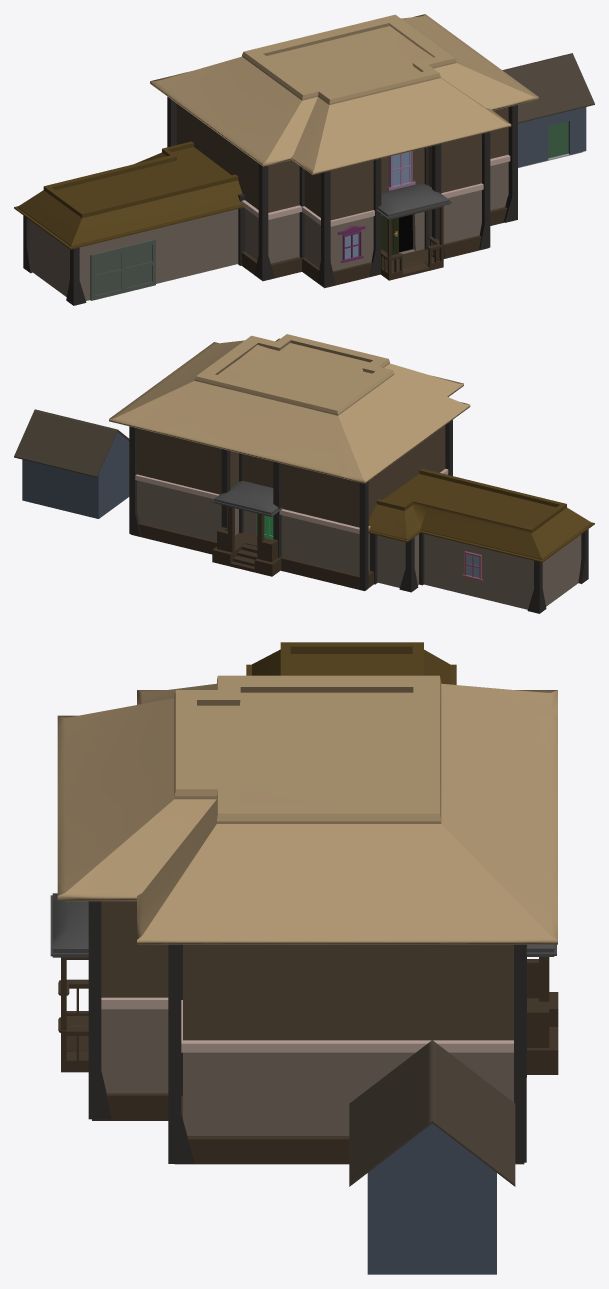
Rendered from MansionShell_Done 1.fbx.
The picture shows the model from 3 angles, top to bottom: view 1: azimuth 30°, elevation 25°; view 2: azimuth 150°, elevation 25°; view 3: azimuth 270°, elevation 25°; orthographic projection. The views are drawn at different scales.
Parts seen in each view (by area): view 1: MansionRoof, Floor_1, GarageRoof, Floor_2, CornerFrame2, Shell_Base, Shed_Roof, Mansion_Door1, Shed, FrontDoor_Roof, Floor_Separator, Shed_Door (+5 smaller); view 2: MansionRoof, Floor_1, GarageRoof, Floor_2, CornerFrame2, Shed, Shed_Roof, BackDoor_Porch, Shell_Base, BackDoor_Roof, Floor_Separator; view 3: MansionRoof, Floor_2, Floor_1, Shed, Shed_Roof, CornerFrame2, Shell_Base, GarageRoof, Floor_Separator, BackDoor_Porch, FrontDoor_Roof.
Boxes of the visible parts, x1=… form: MansionRoof: x1=150, y1=14, x2=538, y2=174; Floor_1: x1=29, y1=162, x2=508, y2=300; GarageRoof: x1=14, y1=141, x2=243, y2=249; Floor_2: x1=176, y1=103, x2=508, y2=220; CornerFrame2: x1=23, y1=97, x2=517, y2=305; Shell_Base: x1=241, y1=206, x2=507, y2=288; Shed_Roof: x1=502, y1=53, x2=594, y2=123; Mansion_Door1: x1=90, y1=239, x2=155, y2=300; Shed: x1=518, y1=107, x2=586, y2=167; FrontDoor_Roof: x1=376, y1=184, x2=451, y2=219; Floor_Separator: x1=241, y1=154, x2=510, y2=226; Shed_Door: x1=548, y1=121, x2=568, y2=158; MansionRoof: x1=109, y1=334, x2=470, y2=483; Floor_1: x1=137, y1=480, x2=581, y2=609; GarageRoof: x1=368, y1=468, x2=594, y2=562; Floor_2: x1=137, y1=425, x2=445, y2=527; CornerFrame2: x1=129, y1=420, x2=588, y2=613; Shed: x1=22, y1=432, x2=129, y2=518; Shed_Roof: x1=14, y1=409, x2=129, y2=477; BackDoor_Porch: x1=212, y1=506, x2=282, y2=576; Shell_Base: x1=130, y1=523, x2=373, y2=590; BackDoor_Roof: x1=211, y1=480, x2=282, y2=516; Floor_Separator: x1=135, y1=468, x2=448, y2=533; MansionRoof: x1=57, y1=675, x2=557, y2=944; Floor_2: x1=101, y1=901, x2=513, y2=1040; Floor_1: x1=101, y1=1009, x2=513, y2=1135; Shed: x1=367, y1=1123, x2=496, y2=1274; Shed_Roof: x1=349, y1=1040, x2=515, y2=1186; CornerFrame2: x1=88, y1=901, x2=526, y2=1163; Shell_Base: x1=58, y1=957, x2=524, y2=1164; GarageRoof: x1=246, y1=642, x2=456, y2=684; Floor_Separator: x1=101, y1=997, x2=513, y2=1052; BackDoor_Porch: x1=527, y1=957, x2=558, y2=1074; FrontDoor_Roof: x1=50, y1=893, x2=88, y2=957.
Bounding box in the file's own units: 579 × 166 × 248.
